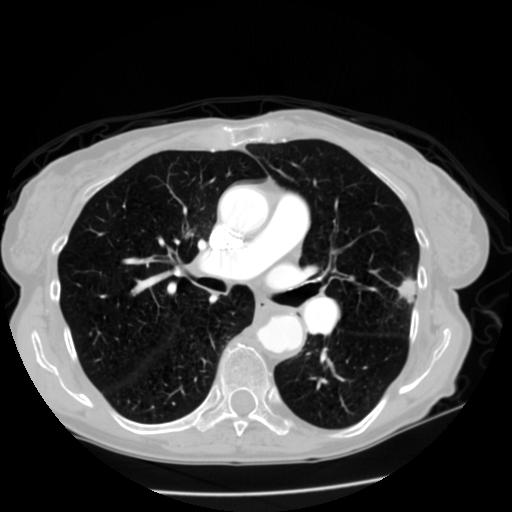nodule: (394, 275, 421, 302)
